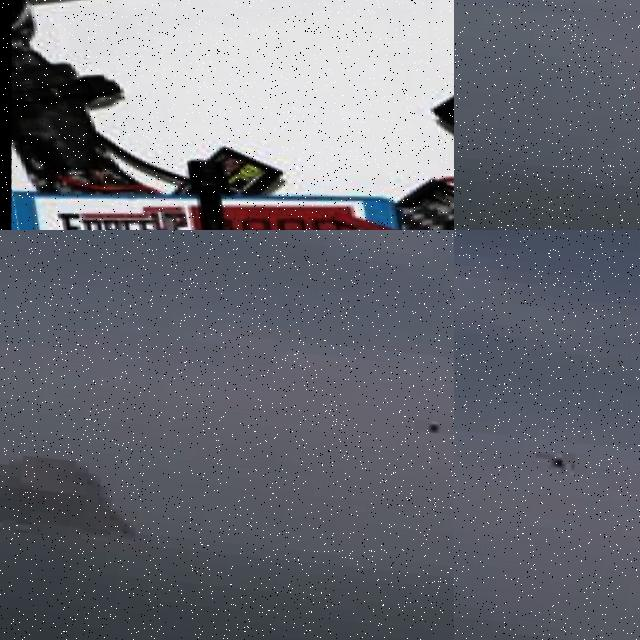drone: (0, 0, 454, 230)
